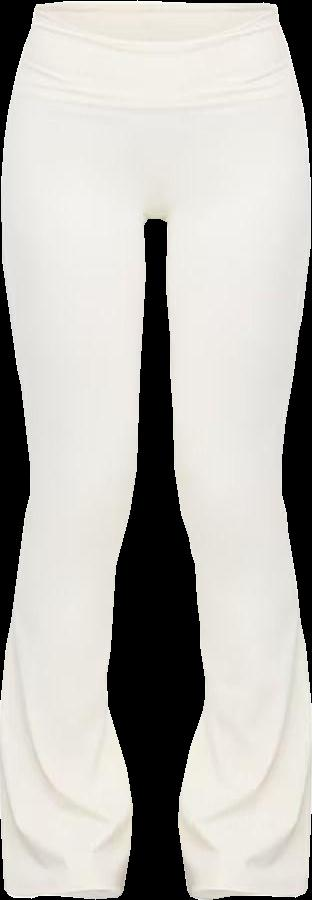Hemline: (187, 886, 311, 899), (8, 886, 124, 899)
Pantleg: (154, 2, 311, 899), (0, 2, 155, 897)
Waistline: (20, 57, 294, 106), (38, 2, 279, 43)
